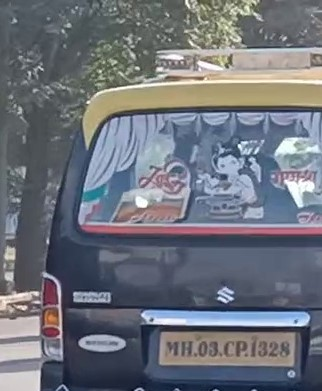MH03CP1328: (159, 331, 294, 366)
